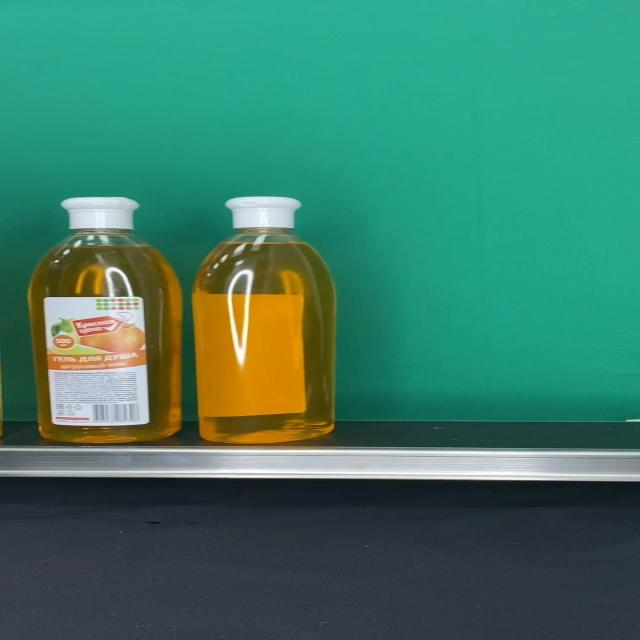Bottle: (28, 197, 182, 443), (191, 197, 337, 445)
Cap: (61, 197, 140, 230), (225, 197, 304, 229)
